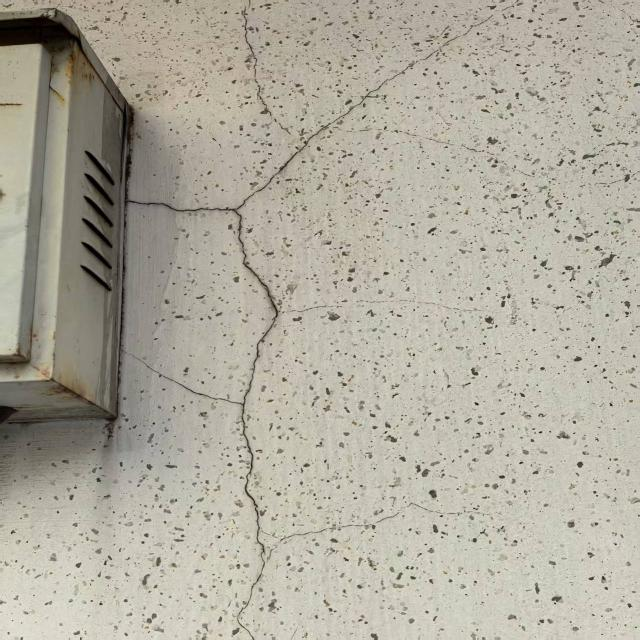crack: (128, 5, 543, 634)
